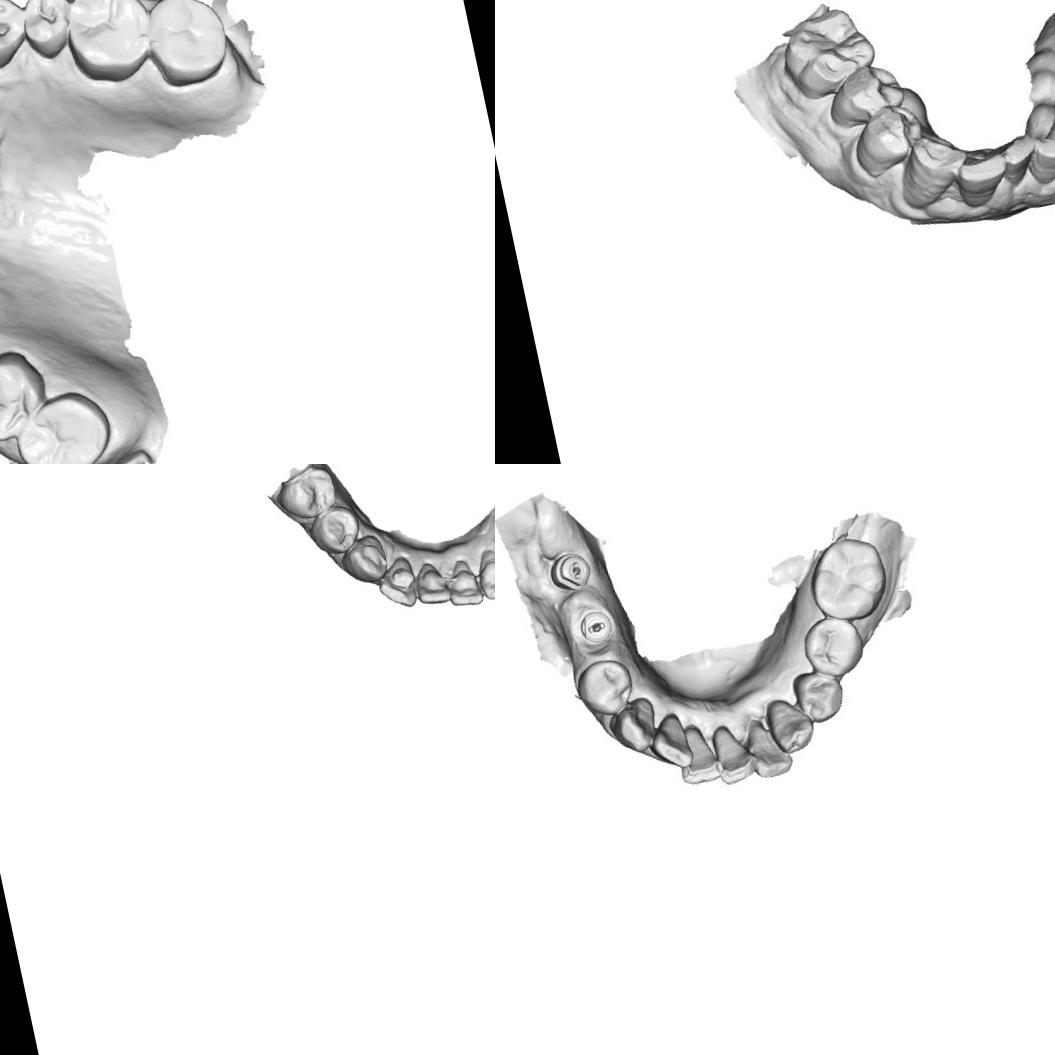canine: (890, 129, 971, 211), (763, 693, 820, 758), (607, 695, 663, 757), (337, 531, 391, 588)
implant_minus: (544, 546, 596, 599), (572, 600, 620, 654)
incisor: (954, 145, 1014, 210), (742, 715, 796, 782), (708, 719, 759, 788), (672, 725, 725, 788), (644, 710, 696, 774), (371, 553, 422, 614), (410, 552, 454, 614), (442, 550, 482, 618), (998, 131, 1042, 191), (1026, 129, 1055, 192), (472, 541, 495, 603)
molar: (778, 5, 878, 102), (800, 528, 898, 626), (55, 0, 159, 91), (6, 383, 119, 464), (139, 0, 236, 92), (0, 343, 55, 451)
premolar: (820, 55, 910, 135), (848, 102, 926, 180), (794, 610, 867, 682), (569, 653, 640, 721), (270, 464, 342, 525), (788, 663, 850, 729), (15, 0, 78, 63), (304, 500, 367, 560), (0, 0, 36, 75)
